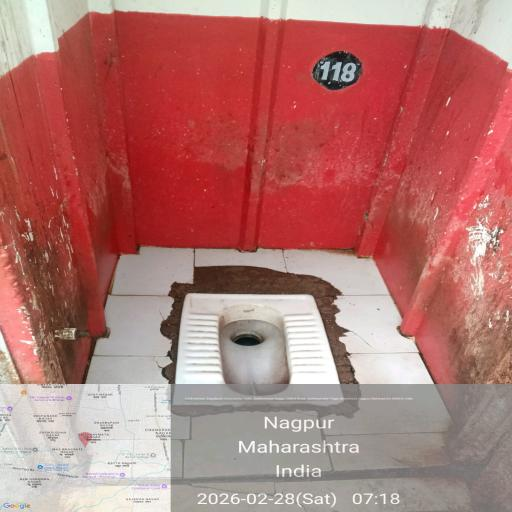clean_floor: (97, 0, 379, 241)
partial_dirty_floor: (108, 237, 389, 392), (385, 179, 512, 385), (0, 172, 106, 371)
partial_dirty_indian: (169, 290, 332, 388)
